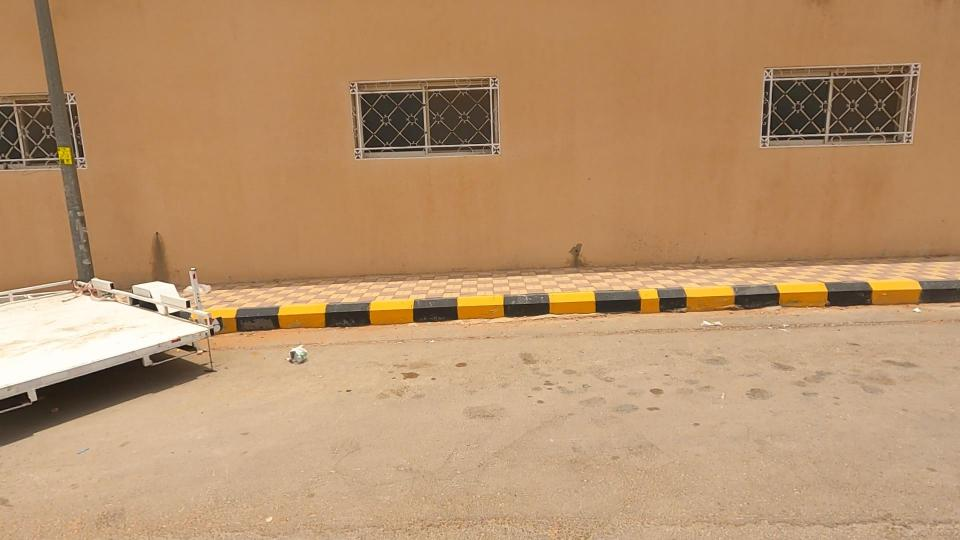GARBAGE: (149, 245, 246, 328), (258, 326, 346, 394)
